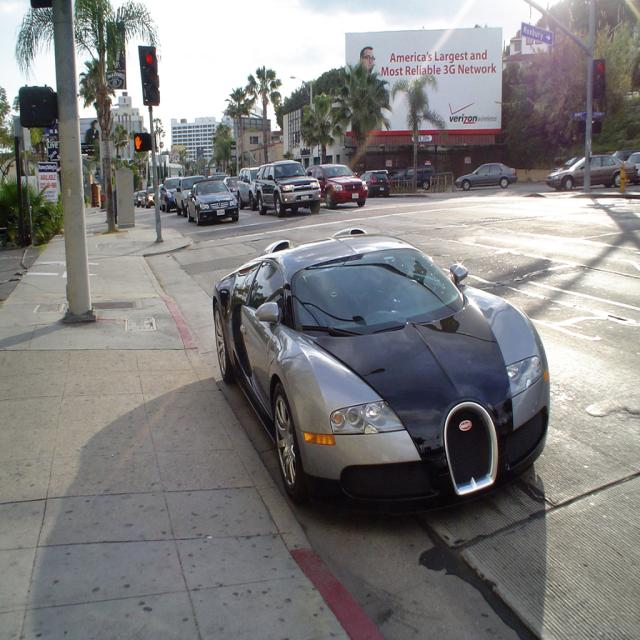car: (193, 239, 539, 510), (255, 160, 321, 218), (186, 179, 239, 223), (452, 160, 517, 189)
